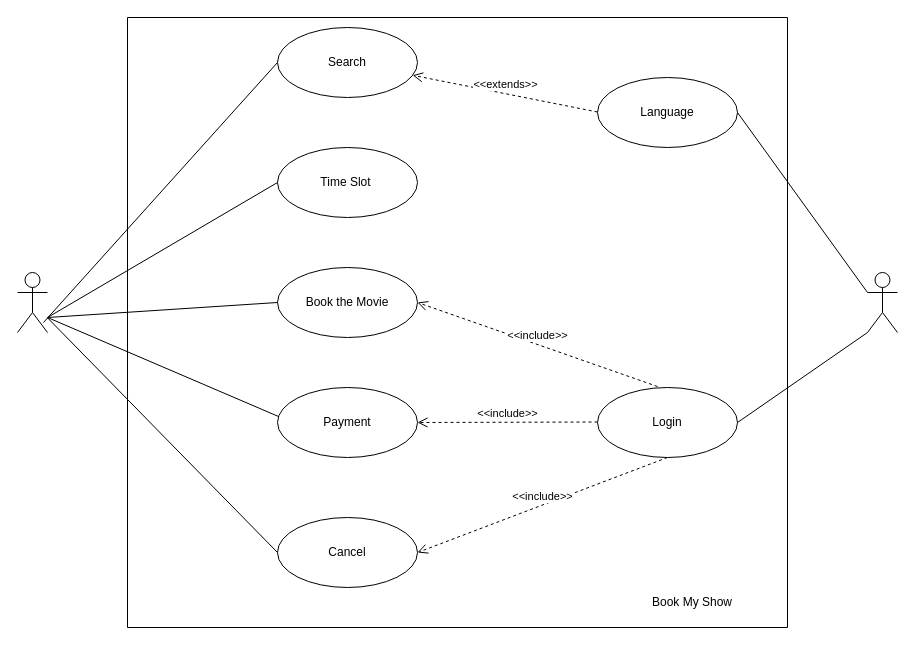
Some shapes in this 917 by 645 pixel diagram are drawn without their labels. Here are the shapes that lost their labels. From the top down, the centre of each, then its label:
At (x=32, y=302): "User".
At (x=882, y=302): "Admin".
